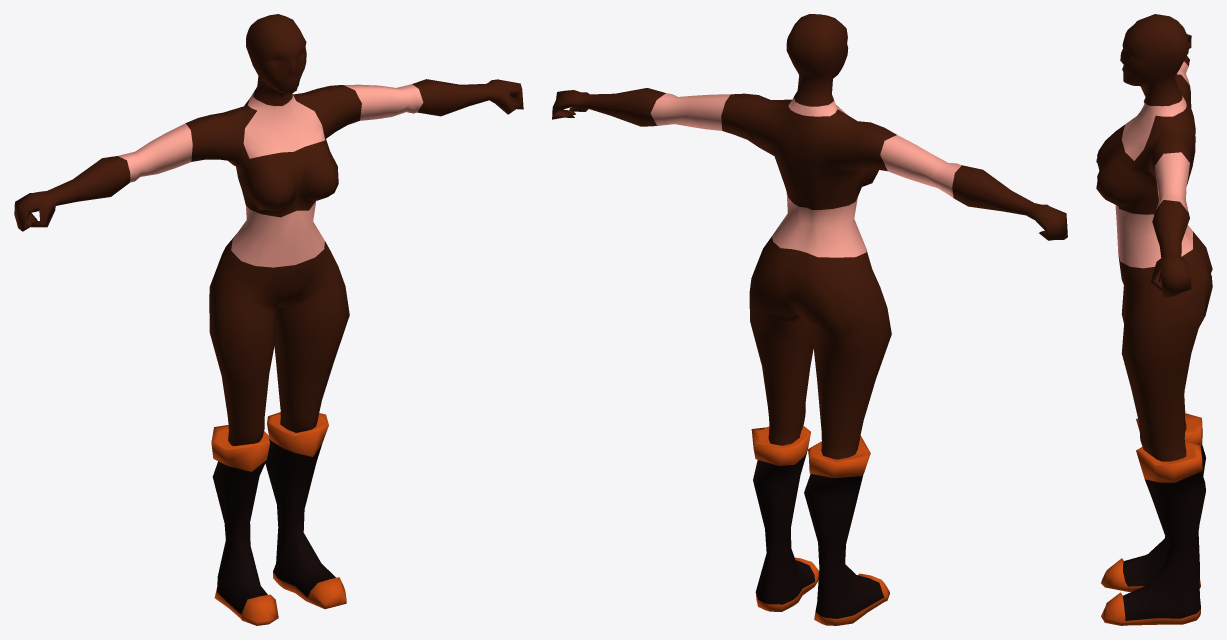
File: mona.obj
3 views of the same model, side by side, from view 1: azimuth 30°, elevation 25°; view 2: azimuth 150°, elevation 25°; view 3: azimuth 270°, elevation 25° (orthographic).
Visible parts, largest first — view 1: body_Circle; view 2: body_Circle; view 3: body_Circle.
Boxes of the visible parts, x1,y1,x2,y2 form: body_Circle: (14, 14, 523, 625); body_Circle: (552, 14, 1067, 625); body_Circle: (1096, 14, 1212, 625).
Size of the model in its own units: 2.12 by 2.33 by 0.4214.
